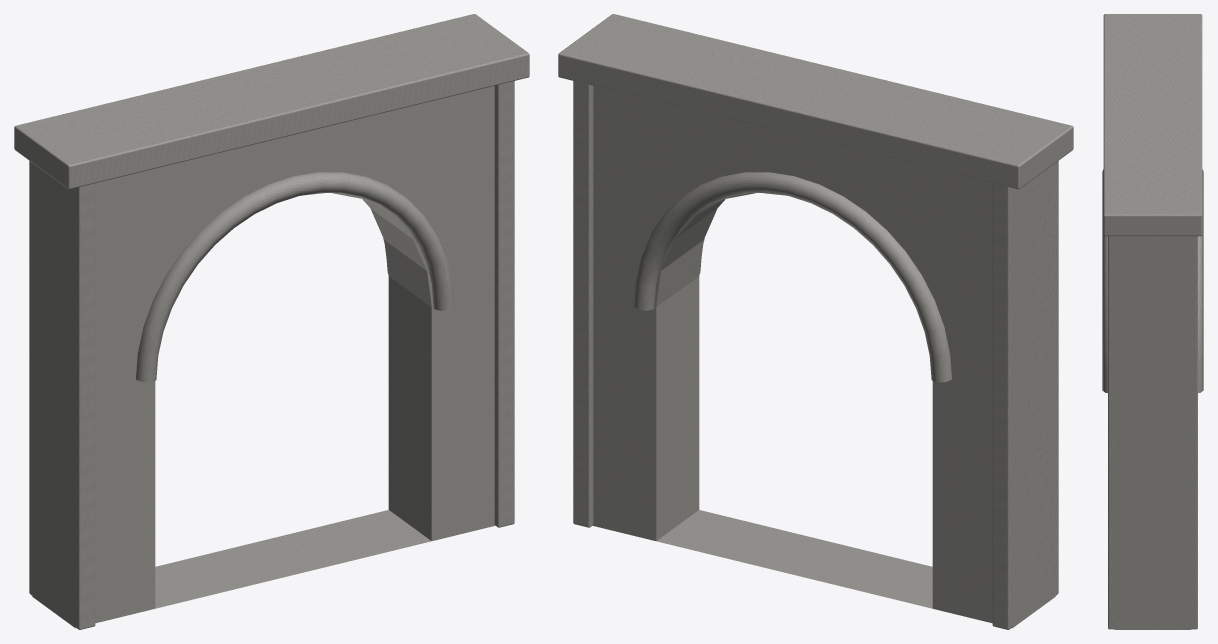
File: tactical-shooter-hill-town-freestanding-archway-e1485f94__27524.glb
3 renders of one model, left to right at view 1: azimuth 30°, elevation 25°; view 2: azimuth 150°, elevation 25°; view 3: azimuth 270°, elevation 25°, orthographic. The views are drawn at different scales.
Visible parts, largest first — view 1: freestanding-archway; view 2: freestanding-archway; view 3: freestanding-archway.
Part boxes in pixels (left/top/right/bottom): freestanding-archway: left=14, top=14, right=529, bottom=629; freestanding-archway: left=558, top=14, right=1073, bottom=629; freestanding-archway: left=1102, top=14, right=1203, bottom=629.
Size of the model in its own units: 4.34 by 4.22 by 0.9197.
1 material, 1 textured.
